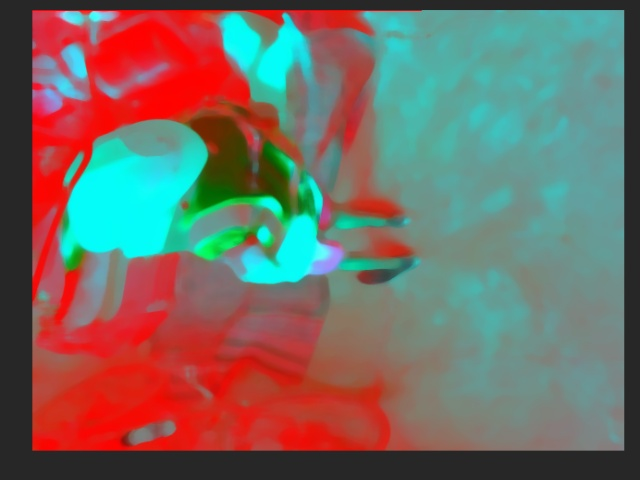one: (122, 127, 172, 160)
